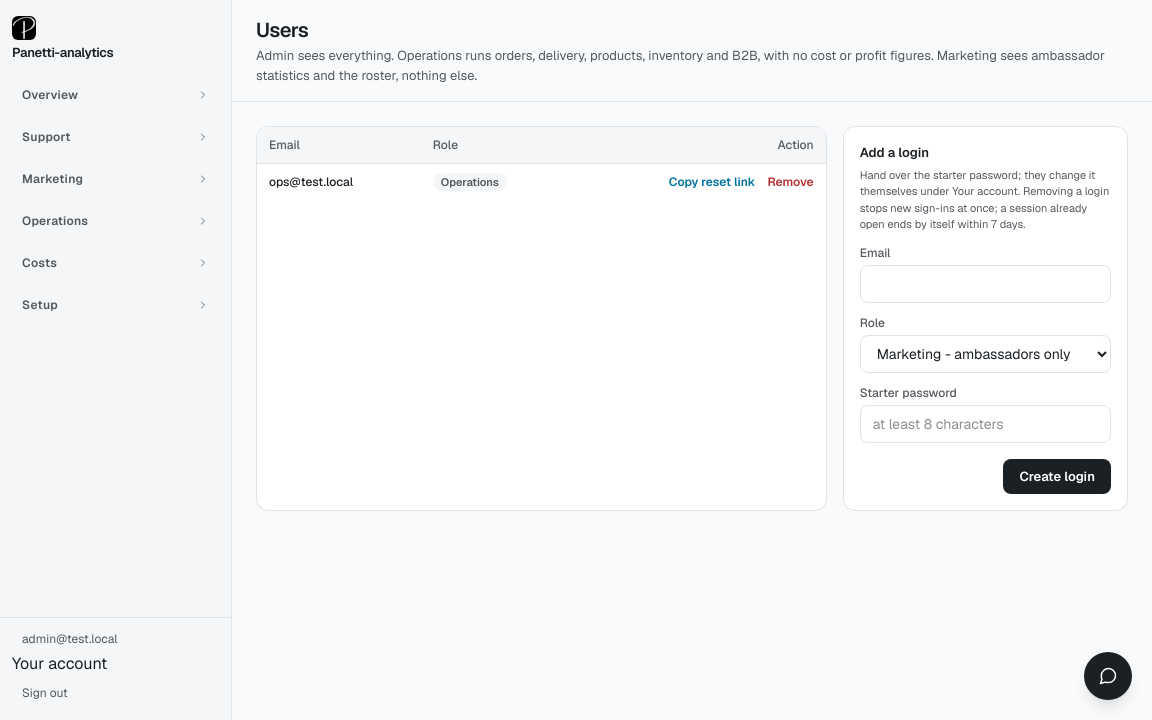
Test: a reset link by hand › copies a one-hour reset link for a login
The width and height of the screenshot is (1152, 720).
Click the button "Copy reset link": (712, 182) [669,174,755,190]
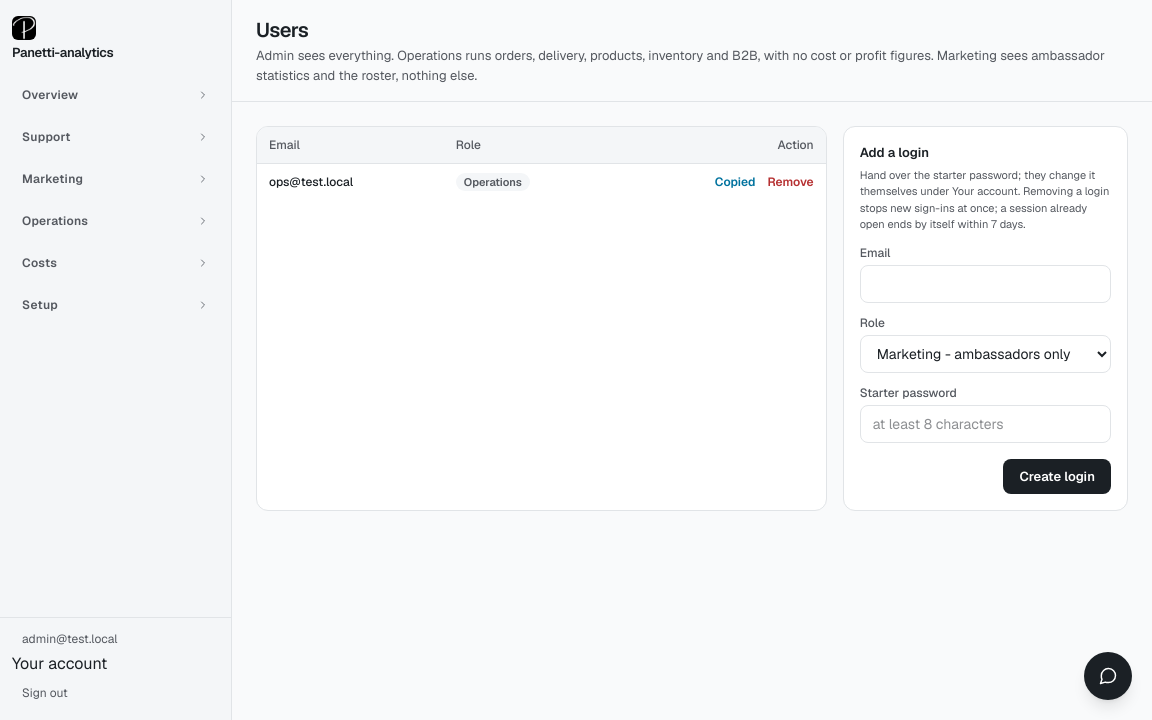
expect the button "Copied" is shown: met, box [715,174,755,190]
